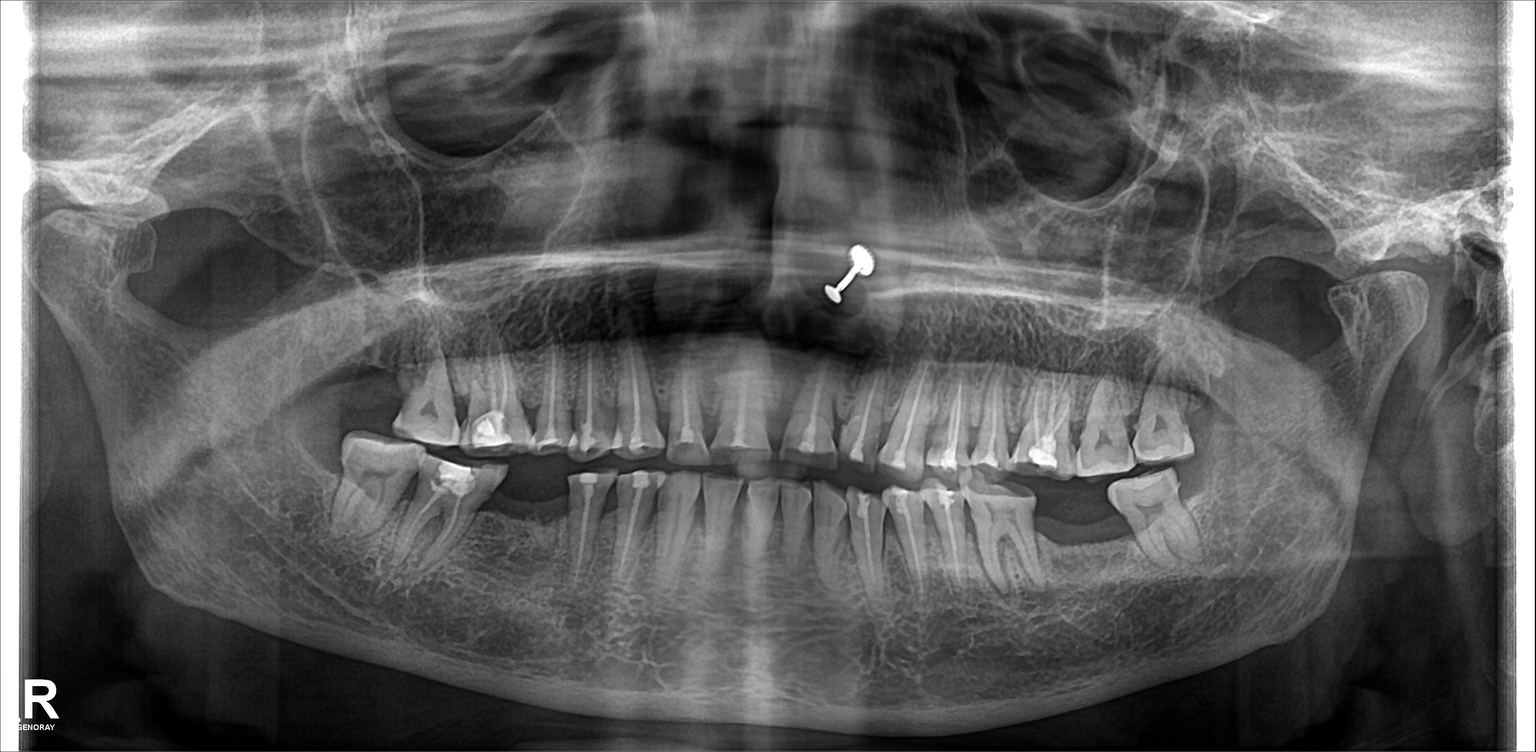Endodontically Treated Tooth: (419, 458, 474, 572), (847, 491, 891, 627), (473, 350, 529, 451), (719, 344, 764, 469), (888, 482, 925, 626), (790, 354, 837, 459), (531, 339, 571, 456), (880, 370, 927, 469), (568, 473, 611, 581), (929, 486, 968, 600), (616, 469, 653, 588), (620, 348, 660, 453), (924, 367, 965, 468), (1019, 378, 1064, 466), (577, 348, 609, 463), (845, 365, 882, 462), (667, 354, 700, 456), (974, 370, 1006, 471)
Missing Tooth: (499, 469, 566, 578), (348, 337, 399, 428), (1080, 490, 1119, 593), (304, 424, 341, 505), (1041, 501, 1074, 591)
